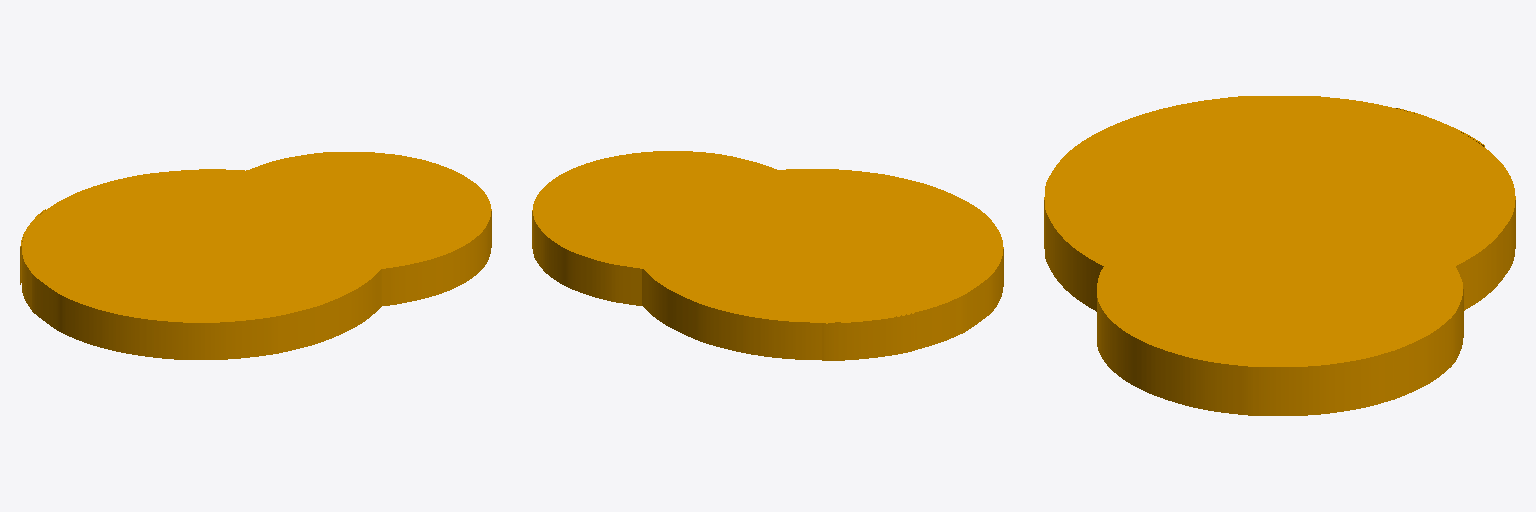
The robot description file, URDF, robot "i9.urdf":
<?xml version="1.0" encoding="utf-8"?>
<robot name="i9.urdf">
  <link name="baseLink">
    <contact>
      <lateral_friction value="0.5"/>
      <rolling_friction value="0.001"/>
      <spinning_friction value="0.001"/>
    </contact>
    <inertial>
      <origin rpy="0 0 0" xyz="0 0 0"/>
      <mass value="0.07"/>
      <inertia ixx="1" ixy="0" ixz="0" iyy="1" iyz="0" izz="1"/>
    </inertial>
    <visual>
      <origin rpy="0 0 0" xyz="0 0 0"/>
      <geometry>
        <mesh filename="i9.obj" scale="0.2 0.2 0.1"/> <!-- Scale x and y by 3.5, z by 1.0 -->
      </geometry>
    </visual>
    <collision>
      <origin rpy="0 0 0" xyz="0 0 0"/>
      <geometry>
        <mesh filename="i9.obj" scale="0.2 0.2 0.1"/> <!-- Scale x and y by 3.5, z by 1.0 -->
      </geometry>
    </collision>
  </link>
</robot>

--- Render facts (derived) ---
3 views of the same robot in one strip: view 1: azimuth 30°, elevation 25°; view 2: azimuth 150°, elevation 25°; view 3: azimuth 270°, elevation 25° (orthographic).
Model i9.urdf with 1 links and 0 joints (none), rooted at baseLink, posed all joints at 0.
Links seen in each view (by area): view 1: baseLink; view 2: baseLink; view 3: baseLink.
Boxes of the visible links, bbox=[...] form: baseLink: bbox=[20, 152, 491, 359]; baseLink: bbox=[532, 151, 1003, 360]; baseLink: bbox=[1044, 96, 1515, 415].
Size in the robot's own frame: 0.4685 by 0.343 by 0.0394 metres.
1 mesh visuals loaded from 1 distinct referenced files (1 OBJ).